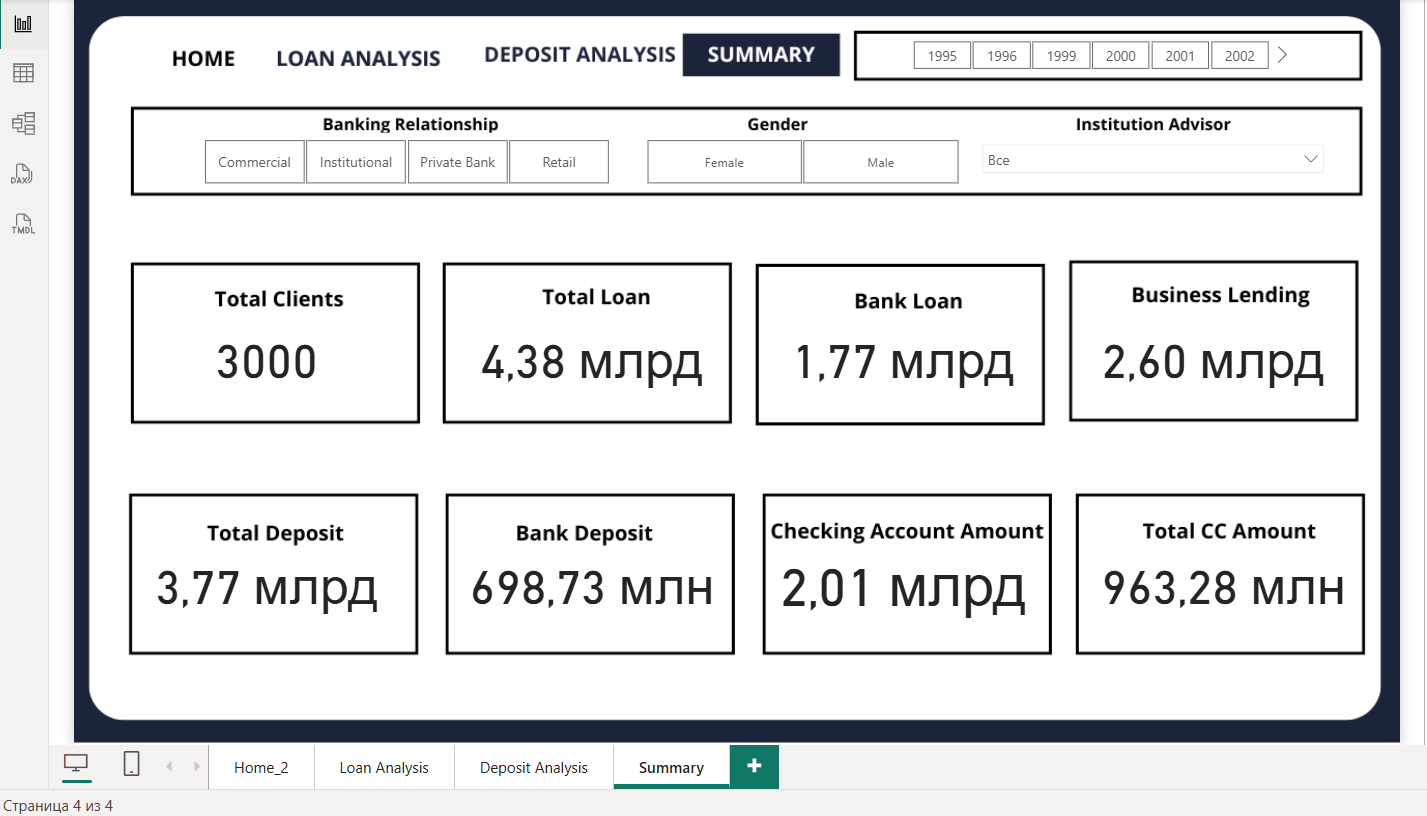

What the dashboard file says about the page in this screenshot:
{"tool":"powerbi","page":{"name":"Summary","canvas":[1280,720],"ordinal":3},"visuals":[{"type":"slicer","fields":{"Values":["banking_case customer.Year of Joining"]},"box":[784.3,34.3,392.9,38.6],"z":0},{"type":"actionButton","box":[80,40,87.1,38.6],"z":1000},{"type":"actionButton","box":[167.1,35.7,204.3,38.6],"z":2000},{"type":"slicer","fields":{"Values":["banking_case customer.BRId"]},"box":[100,128.6,440,55.7],"z":3000},{"type":"slicer","fields":{"Values":["banking_case customer.GenderId"]},"box":[527.1,128.6,350,55.7],"z":4000},{"type":"slicer","fields":{"Values":["banking_case customer.IAId"]},"box":[865.7,130,350,55.7],"z":5000},{"type":"card","fields":{"Values":["CountNonNull(banking_case customer.Name)"]},"box":[80,284.3,212.9,120],"z":6000},{"type":"card","fields":{"Values":["banking_case customer.Total Loan"]},"box":[387.1,294.3,225.7,101.4],"z":7000},{"type":"card","fields":{"Values":["Sum(banking_case customer.Bank Loans)"]},"box":[671.4,284.3,257.1,120],"z":8000},{"type":"card","fields":{"Values":["Sum(banking_case customer.Business Lending)"]},"box":[971.4,284.3,257.1,120],"z":9000},{"type":"card","fields":{"Values":["banking_case customer.Total Deposit"]},"box":[31.4,502.9,310,118.6],"z":10000},{"type":"card","fields":{"Values":["Sum(banking_case customer.Bank Deposits)"]},"box":[671.4,501.4,257.1,120],"z":11000},{"type":"card","fields":{"Values":["Sum(banking_case customer.Checking Accounts)"]},"box":[971.4,502.9,277.1,120],"z":12000},{"type":"card","fields":{"Values":["Sum(banking_case customer.Saving Accounts)"]},"box":[360,502.9,281.4,120],"z":13000},{"type":"actionButton","box":[387.1,34.3,195.7,38.6],"z":14000}]}

Visuals, with their boxes on the page's 1280x720 design canvas (x1, y1, x2, y2). These are canvas units, not pixel positions in the 1427x816 screenshot, which may show the page scaled, cropped or inside an application window:
slicer - banking_case customer.Year of Joining: pyautogui.locateOnScreen(784, 34, 1177, 73)
actionButton: pyautogui.locateOnScreen(80, 40, 167, 79)
actionButton: pyautogui.locateOnScreen(167, 36, 371, 74)
slicer - banking_case customer.BRId: pyautogui.locateOnScreen(100, 129, 540, 184)
slicer - banking_case customer.GenderId: pyautogui.locateOnScreen(527, 129, 877, 184)
slicer - banking_case customer.IAId: pyautogui.locateOnScreen(866, 130, 1216, 186)
card - CountNonNull(banking_case customer.Name): pyautogui.locateOnScreen(80, 284, 293, 404)
card - banking_case customer.Total Loan: pyautogui.locateOnScreen(387, 294, 613, 396)
card - Sum(banking_case customer.Bank Loans): pyautogui.locateOnScreen(671, 284, 928, 404)
card - Sum(banking_case customer.Business Lending): pyautogui.locateOnScreen(971, 284, 1228, 404)
card - banking_case customer.Total Deposit: pyautogui.locateOnScreen(31, 503, 341, 622)
card - Sum(banking_case customer.Bank Deposits): pyautogui.locateOnScreen(671, 501, 928, 621)
card - Sum(banking_case customer.Checking Accounts): pyautogui.locateOnScreen(971, 503, 1248, 623)
card - Sum(banking_case customer.Saving Accounts): pyautogui.locateOnScreen(360, 503, 641, 623)
actionButton: pyautogui.locateOnScreen(387, 34, 583, 73)
